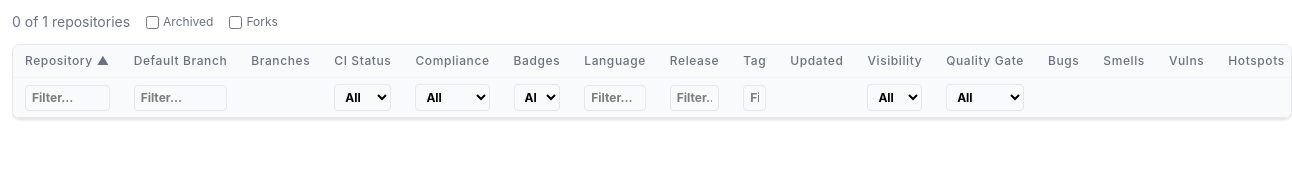
Test: RepositoryTable › should render archived badge for archived repos
# then - archived repos are hidden by default, need to check the checkbox
What coordinates should you click on to do the following:
click the checkbox labelled "Archived"
I would click on:
 (153, 22)
Its box is [146,16,159,28].
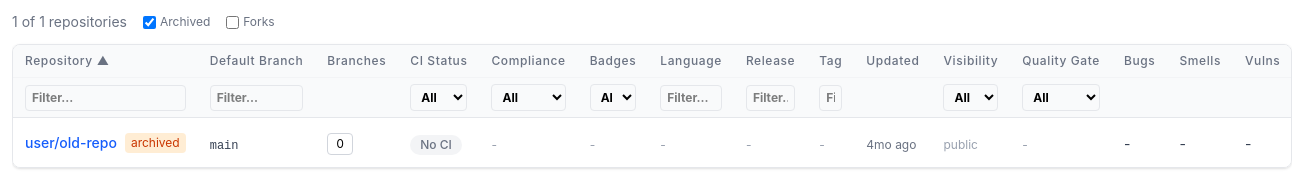
Check: the text "archived" is shown, box [125,132,186,152]
